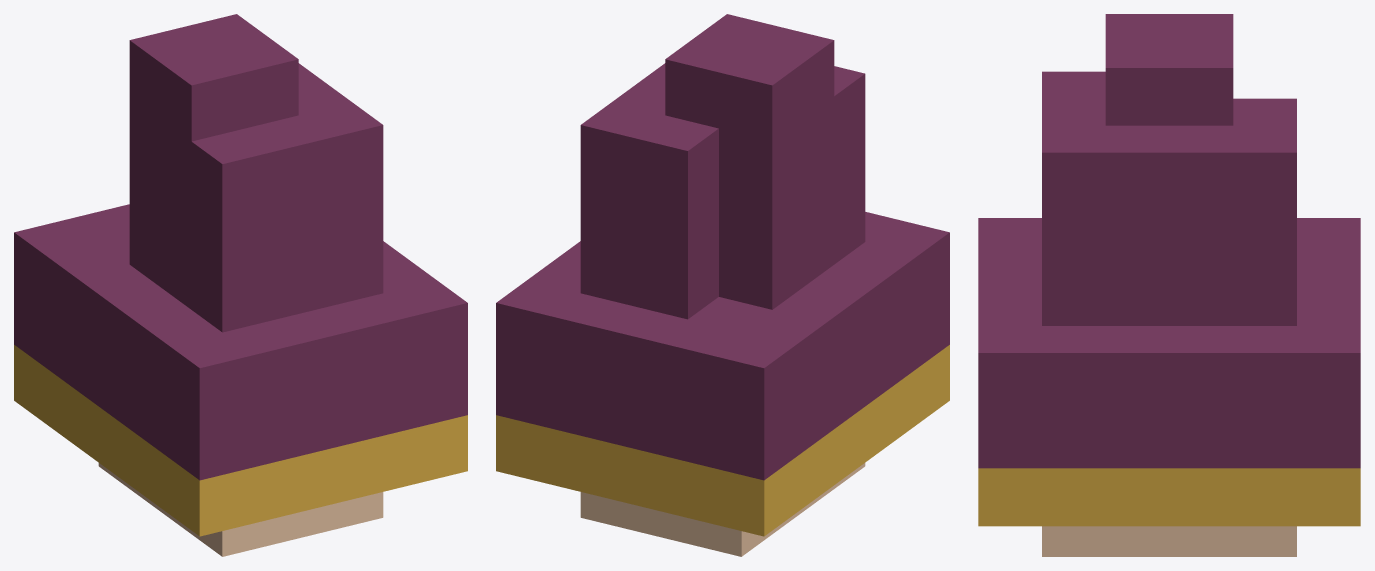
The model's file is wizard__arm_r.glb.
3 views of the same model, side by side, from view 1: azimuth 30°, elevation 25°; view 2: azimuth 150°, elevation 25°; view 3: azimuth 270°, elevation 25° (orthographic). The views are drawn at different scales.
Parts seen in each view (by area): view 1: wizard__arm_r; view 2: wizard__arm_r; view 3: wizard__arm_r.
Boxes of the visible parts, x1,y1,x2,y2 form: wizard__arm_r: [14, 14, 467, 556]; wizard__arm_r: [496, 14, 949, 556]; wizard__arm_r: [978, 14, 1360, 556].
Size of the model in its own units: 0.5 by 0.8 by 0.6.
Materials: 1 (1 with a texture image).
